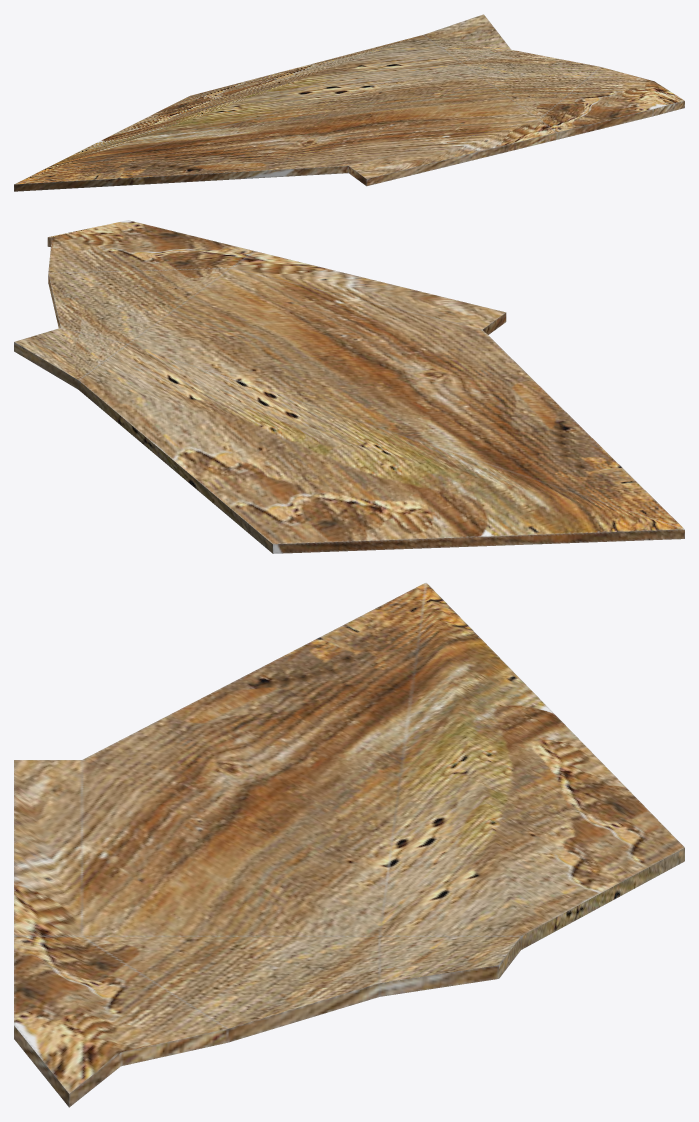
Rendered from wood scrap.fbx.
3 views of the same model, one above another, from view 1: azimuth 30°, elevation 25°; view 2: azimuth 150°, elevation 25°; view 3: azimuth 270°, elevation 25° (orthographic). The views are drawn at different scales.
Parts seen in each view (by area): view 1: wood_scrap1; view 2: wood_scrap1; view 3: wood_scrap1.
Part boxes in pixels (box(x1,y1,x2,y2)): wood_scrap1: box(14, 14, 684, 191); wood_scrap1: box(14, 220, 684, 553); wood_scrap1: box(14, 582, 684, 1107).
Bounding box in the file's own units: 56.36 × 6.06 × 29.93.
Materials: 1 (1 with a texture image).
